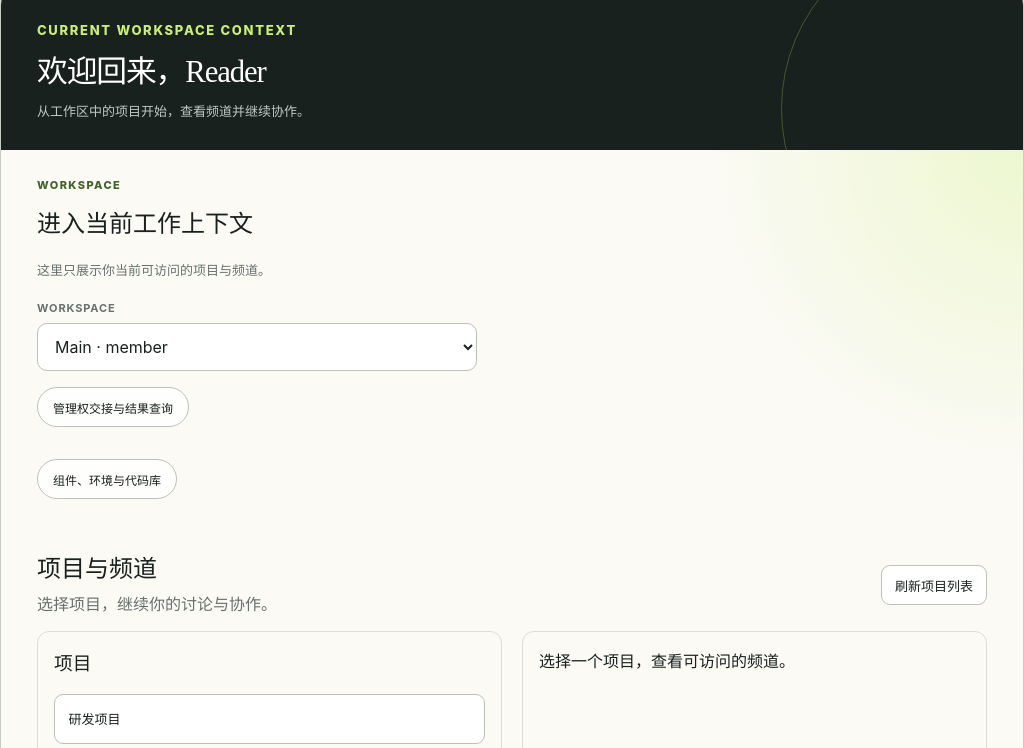
Test case: Workspace discovery › clears old channels when selecting another project
Click the button "研发项目" at coordinates (95, 719), box [54,694,485,744]
(page scrolled)
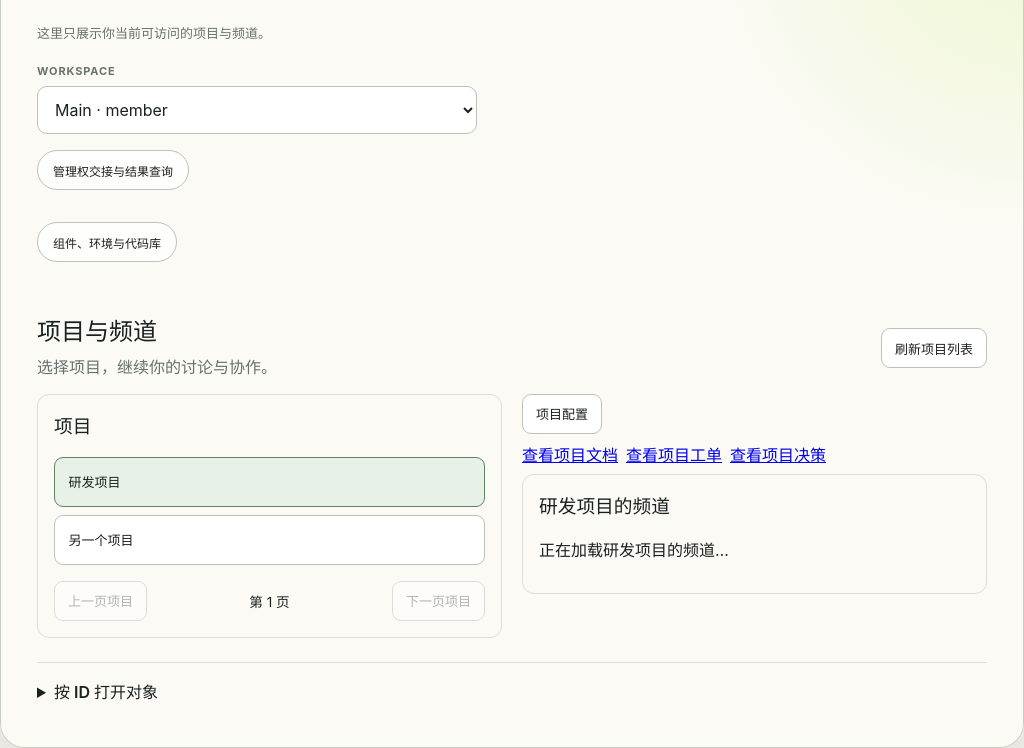
Click the button "另一个项目" at coordinates (101, 540), box [54,514,485,564]
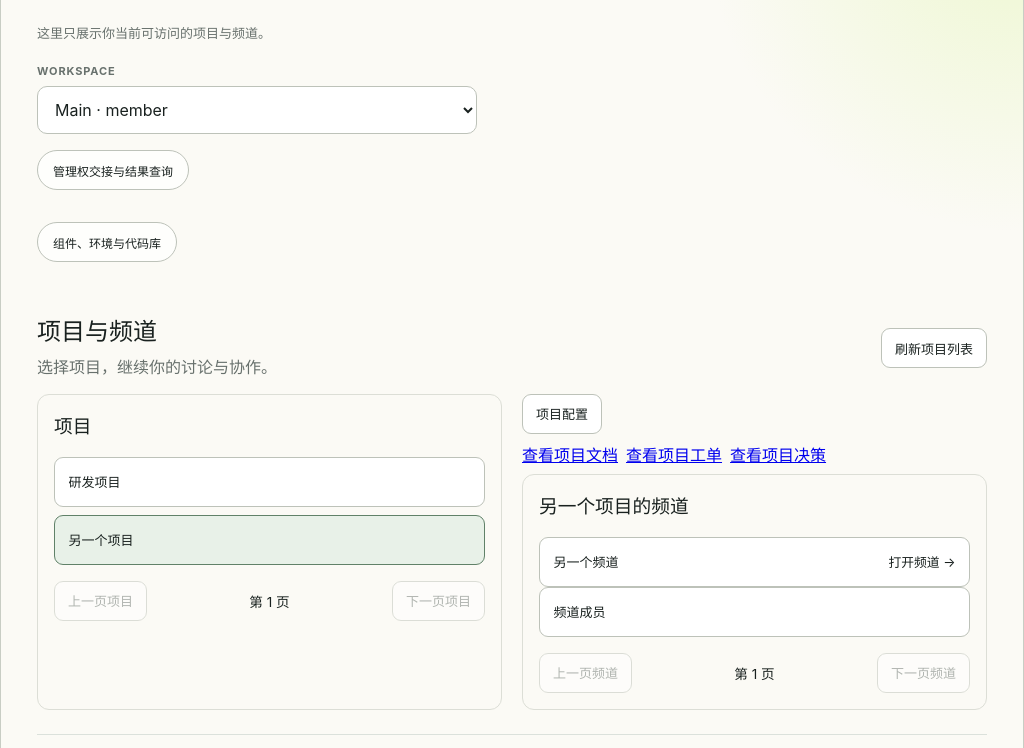
expect the button "另一个频道 打开频道 →" is shown: met, box [539,536,970,586]
